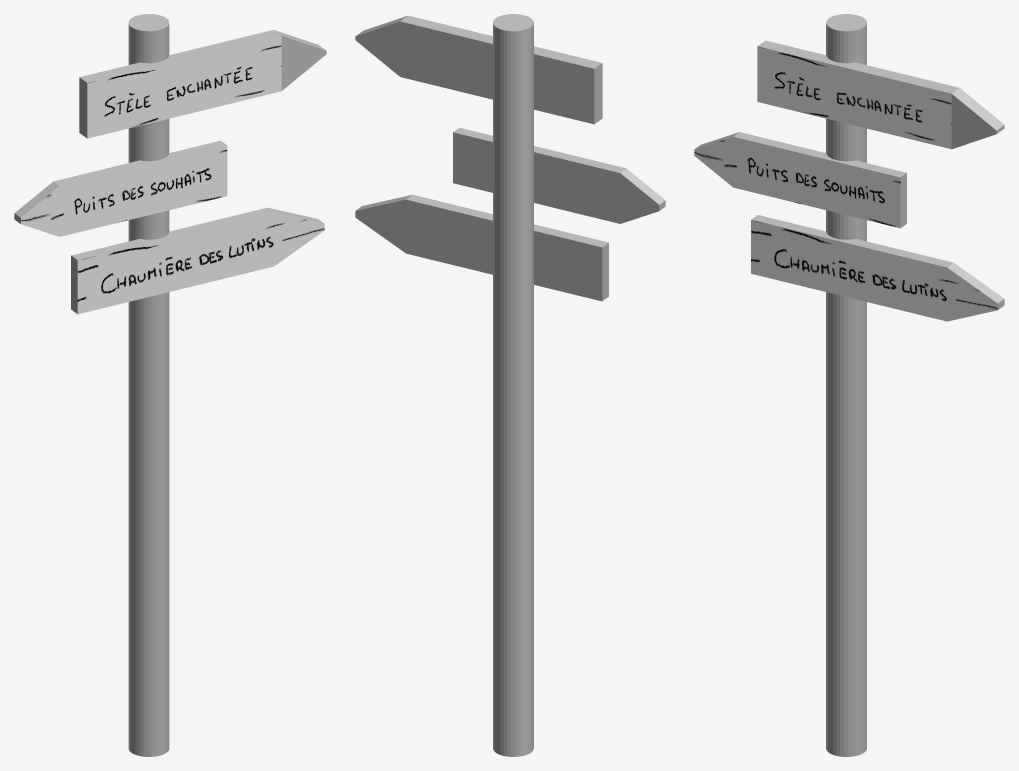
File: panneau.obj
3 views of the same model, side by side, from view 1: azimuth 30°, elevation 25°; view 2: azimuth 150°, elevation 25°; view 3: azimuth 330°, elevation 25° (orthographic).
Visible parts, largest first — view 1: panneau; view 2: panneau; view 3: panneau.
Part boxes in pixels (x1,y1,x2,y2): panneau: (14,14,326,756); panneau: (355,14,665,756); panneau: (694,14,1004,756).
Size of the model in its own units: 0.8816 by 2.01 by 0.1204.
